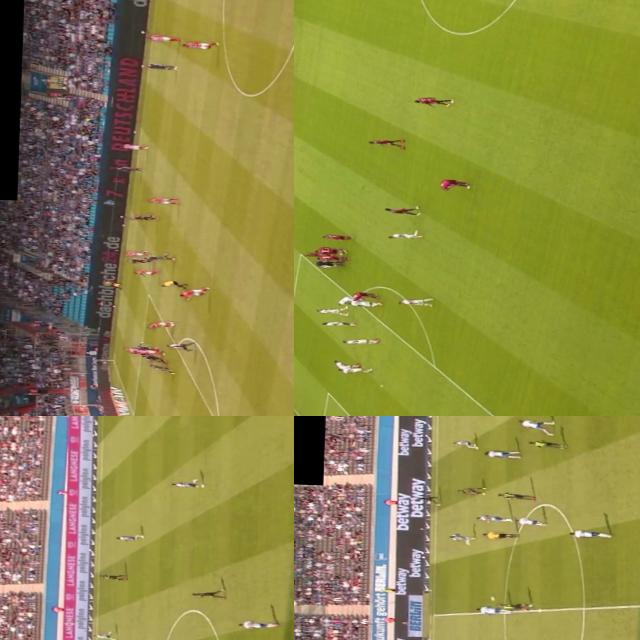ball: (486, 594, 496, 602), (334, 252, 344, 256), (168, 322, 175, 326)
player: (434, 176, 471, 194), (410, 95, 452, 108), (234, 618, 278, 630), (175, 286, 211, 300), (566, 529, 612, 539), (188, 587, 226, 599), (514, 420, 552, 432), (364, 137, 405, 148), (380, 205, 420, 216), (526, 440, 566, 450), (479, 449, 517, 459), (180, 41, 222, 50), (144, 320, 174, 332), (381, 231, 421, 240), (328, 359, 360, 370), (316, 319, 354, 328), (470, 606, 508, 615), (338, 336, 379, 344), (391, 298, 432, 306), (138, 63, 174, 72), (446, 534, 472, 546), (166, 342, 197, 352), (146, 196, 180, 205), (344, 300, 382, 308), (170, 479, 203, 488), (312, 306, 348, 314), (116, 142, 150, 150), (494, 602, 528, 610), (114, 533, 144, 542), (89, 631, 119, 640), (514, 517, 544, 526), (494, 494, 532, 501), (332, 296, 358, 306), (143, 253, 175, 261), (142, 33, 178, 40), (120, 250, 150, 258), (148, 364, 172, 374), (124, 346, 154, 354), (311, 247, 345, 254), (314, 254, 348, 261), (130, 213, 156, 222), (95, 572, 124, 580), (319, 234, 352, 241), (472, 516, 510, 522), (350, 292, 378, 300), (140, 355, 164, 364), (109, 165, 139, 172), (124, 256, 148, 264), (450, 440, 474, 448), (455, 487, 481, 494), (302, 252, 332, 258), (129, 270, 158, 276), (414, 496, 438, 503), (338, 368, 370, 373), (134, 348, 160, 354), (134, 344, 158, 350)
